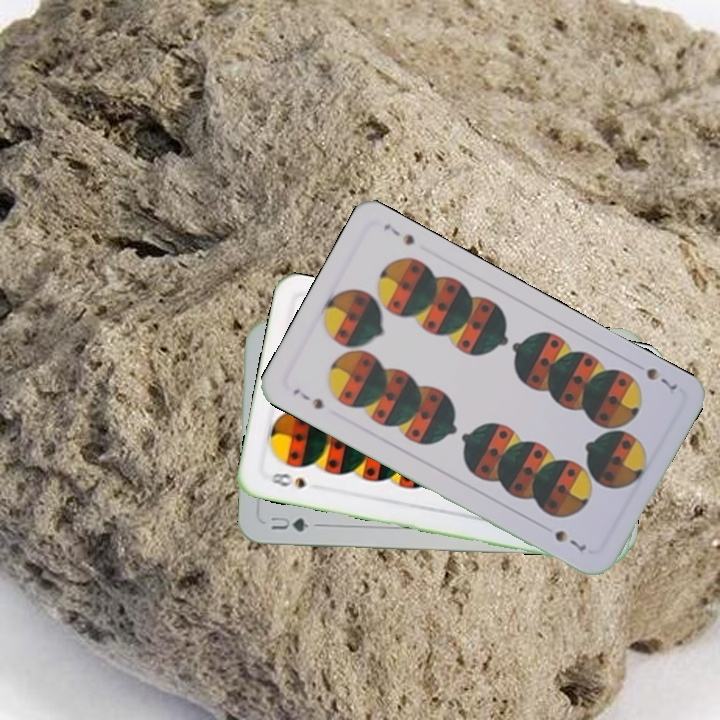GU: (266, 513, 313, 534)
S7: (642, 363, 681, 397), (288, 384, 326, 412)
S8: (267, 468, 309, 492)
